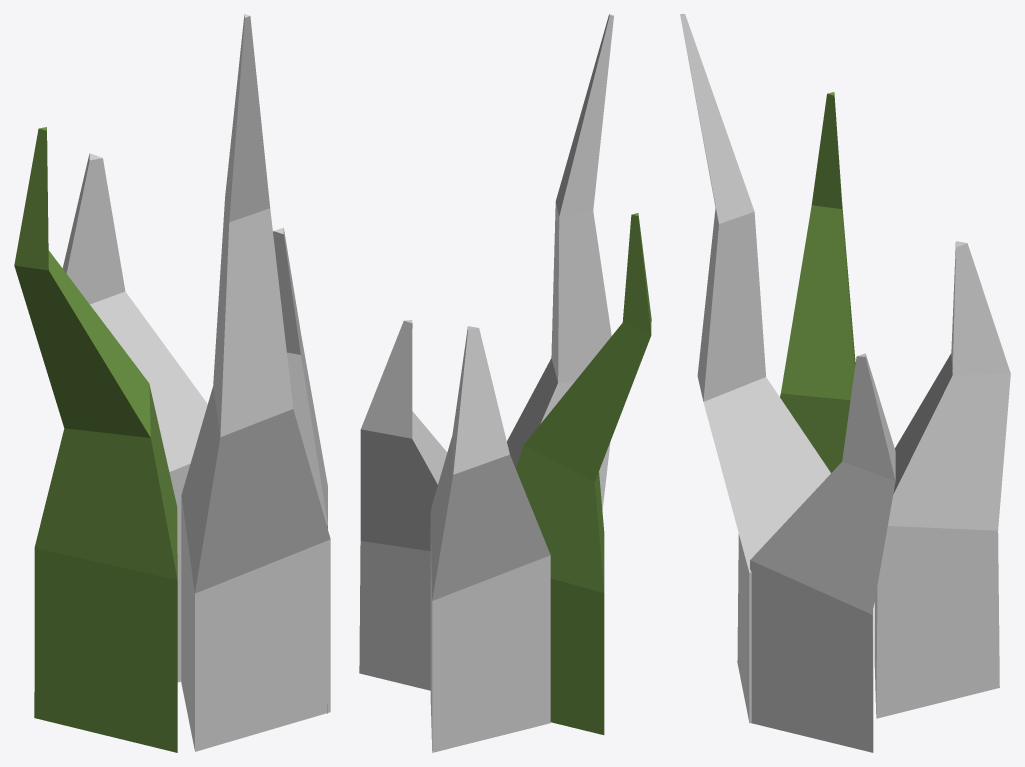
Rendered from Grass.fbx.
The picture shows the model from 3 angles, left to right: view 1: azimuth 30°, elevation 25°; view 2: azimuth 150°, elevation 25°; view 3: azimuth 270°, elevation 25°; orthographic projection. The views are drawn at different scales.
Visible parts, largest first — view 1: Grass_2, Grass, Grass_3, Grass_1; view 2: Grass_3, Grass, Grass_1, Grass_2; view 3: Grass_3, Grass_1, Grass_2, Grass.
Boxes of the visible parts, x1,y1,x2,y2 form: Grass_2: (181,14,330,751); Grass: (14,127,177,752); Grass_3: (62,153,207,682); Grass_1: (273,228,327,713); Grass_3: (430,326,550,752); Grass: (516,213,651,734); Grass_1: (359,320,447,690); Grass_2: (507,14,613,510); Grass_3: (874,241,1010,718); Grass_1: (749,353,895,752); Grass_2: (680,14,830,723); Grass: (780,92,855,472).
Size of the model in its own units: 4.02 by 3.99 by 8.78.
